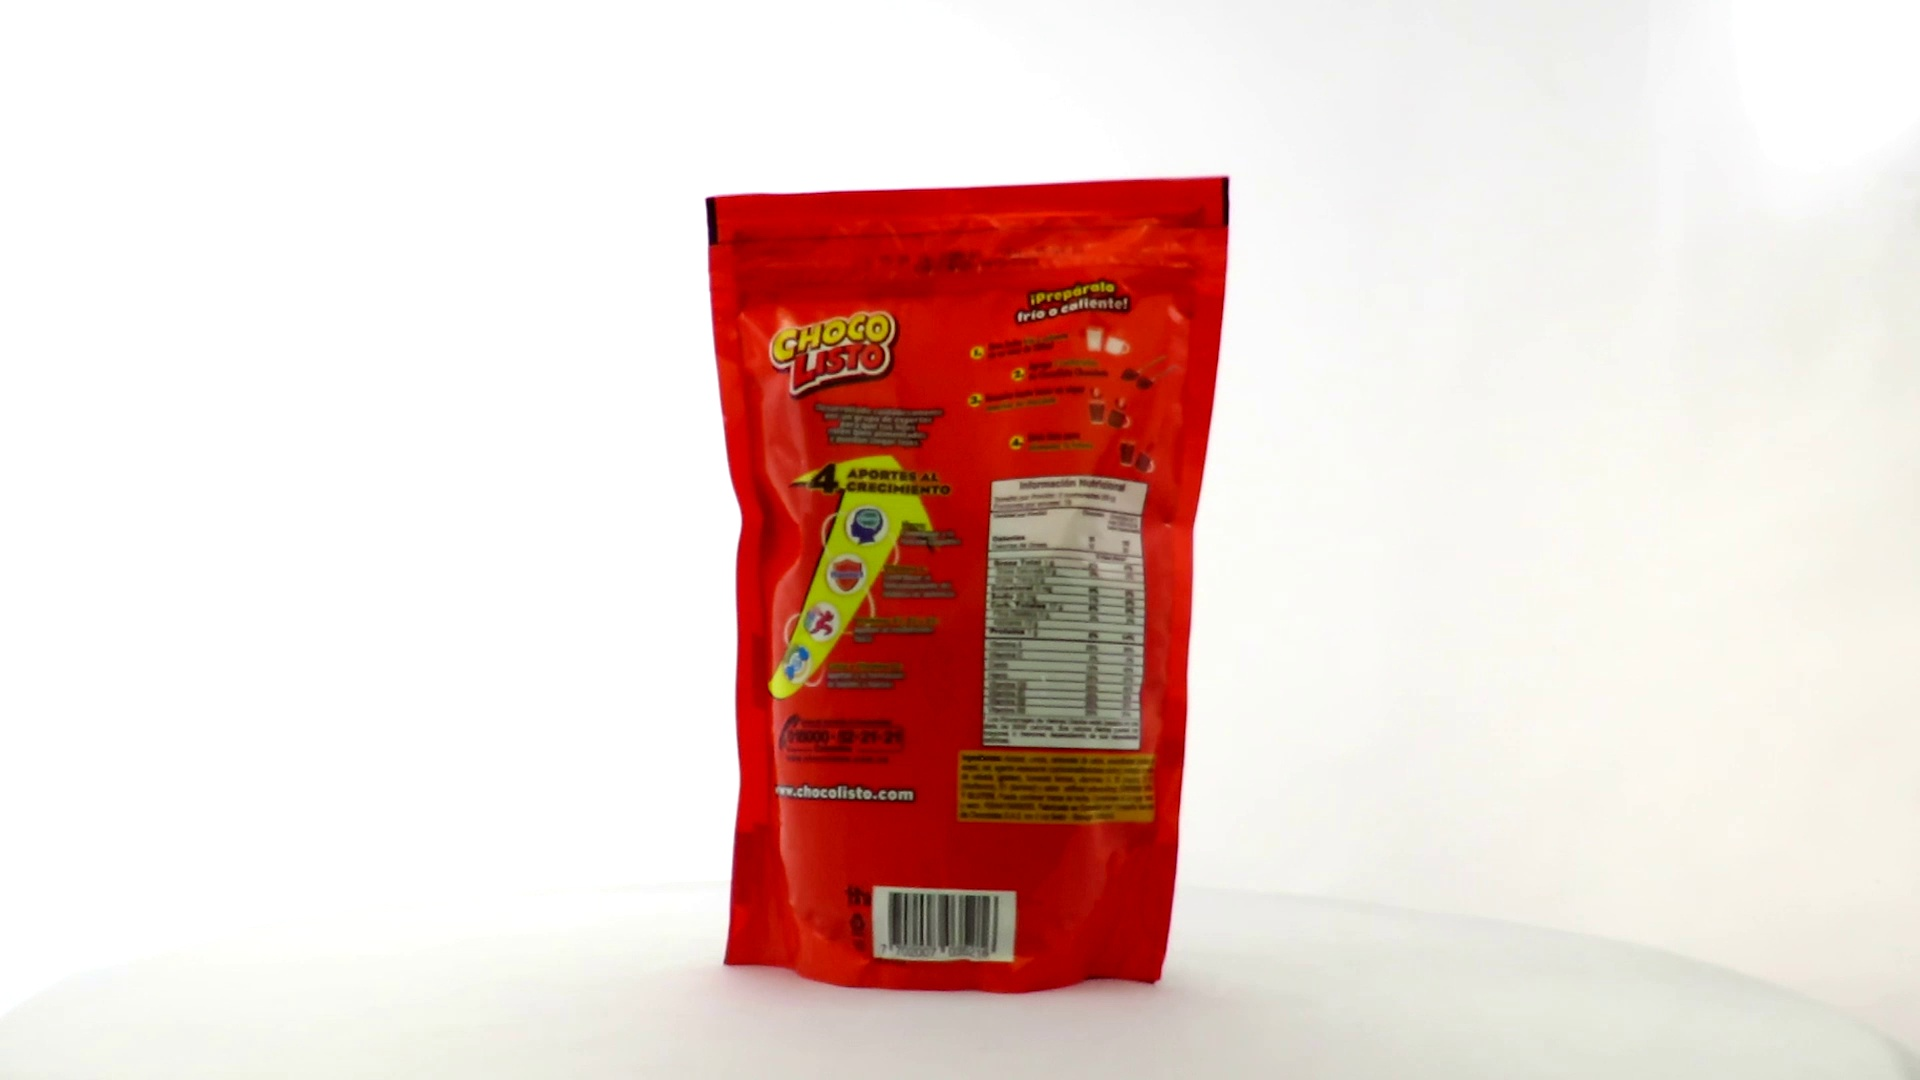COL0170103DYP36000: (700, 171, 1236, 1000)
